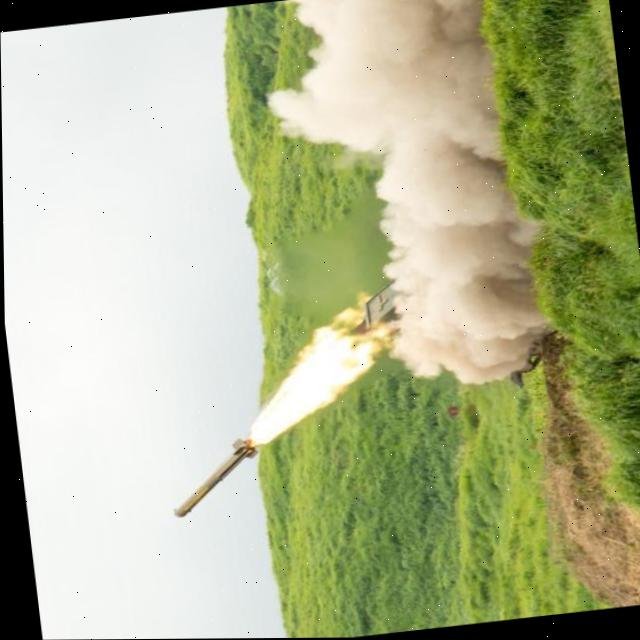missile: (159, 428, 268, 523)
